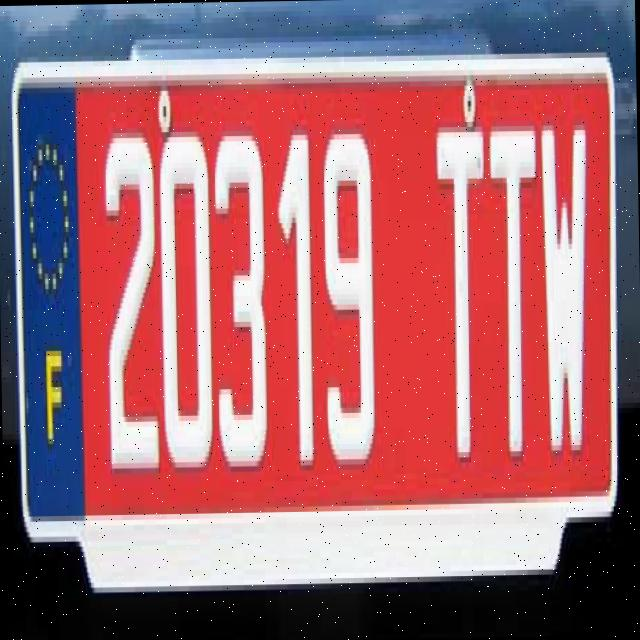Autre: (14, 71, 611, 521)
France: (14, 77, 85, 512)
